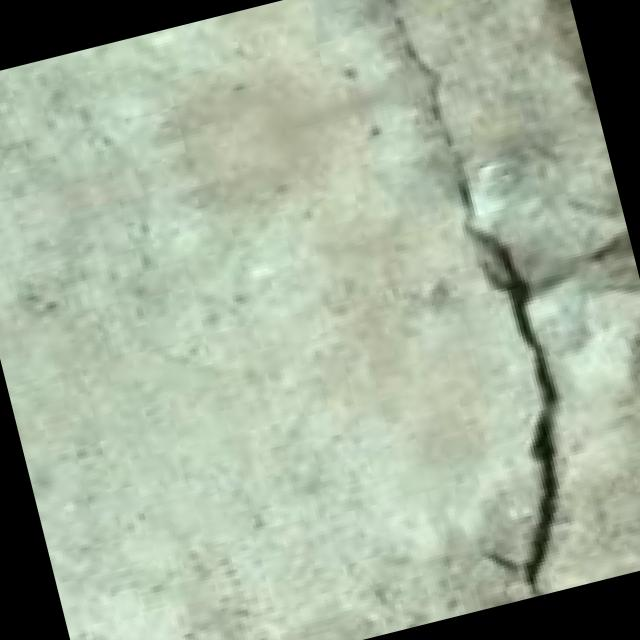crack: (318, 0, 629, 608)
